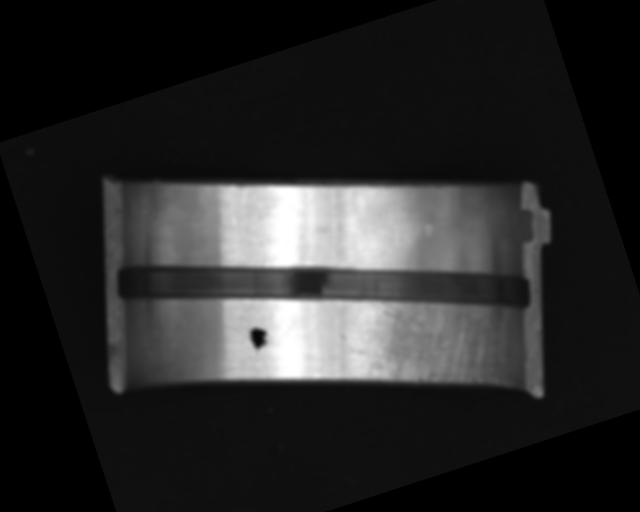blot: (245, 323, 274, 355)
bruise: (422, 223, 435, 239)
gap: (108, 150, 533, 426)
nick: (222, 217, 249, 266)
scratch: (332, 262, 515, 426)
